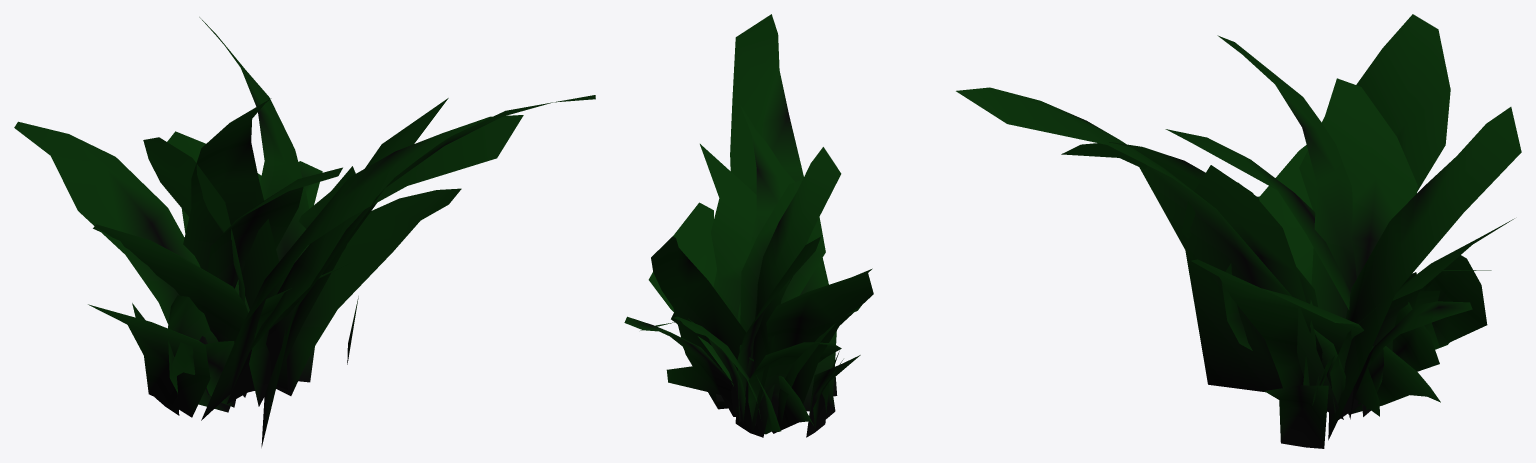
The model's file is GrassTallDryGCATA_I.fbx.
3 renders of one model, left to right at view 1: azimuth 30°, elevation 25°; view 2: azimuth 150°, elevation 25°; view 3: azimuth 270°, elevation 25°, orthographic. The views are drawn at different scales.
Parts seen in each view (by area): view 1: GTDI_LOD0; view 2: GTDI_LOD0; view 3: GTDI_LOD0.
Part boxes in pixels (x1,y1,x2,y2): GTDI_LOD0: (14,17,595,447); GTDI_LOD0: (624,14,873,437); GTDI_LOD0: (956,14,1521,448).
Size of what is drawn, in the model's own units: 1.85 by 1.83 by 2.25.
